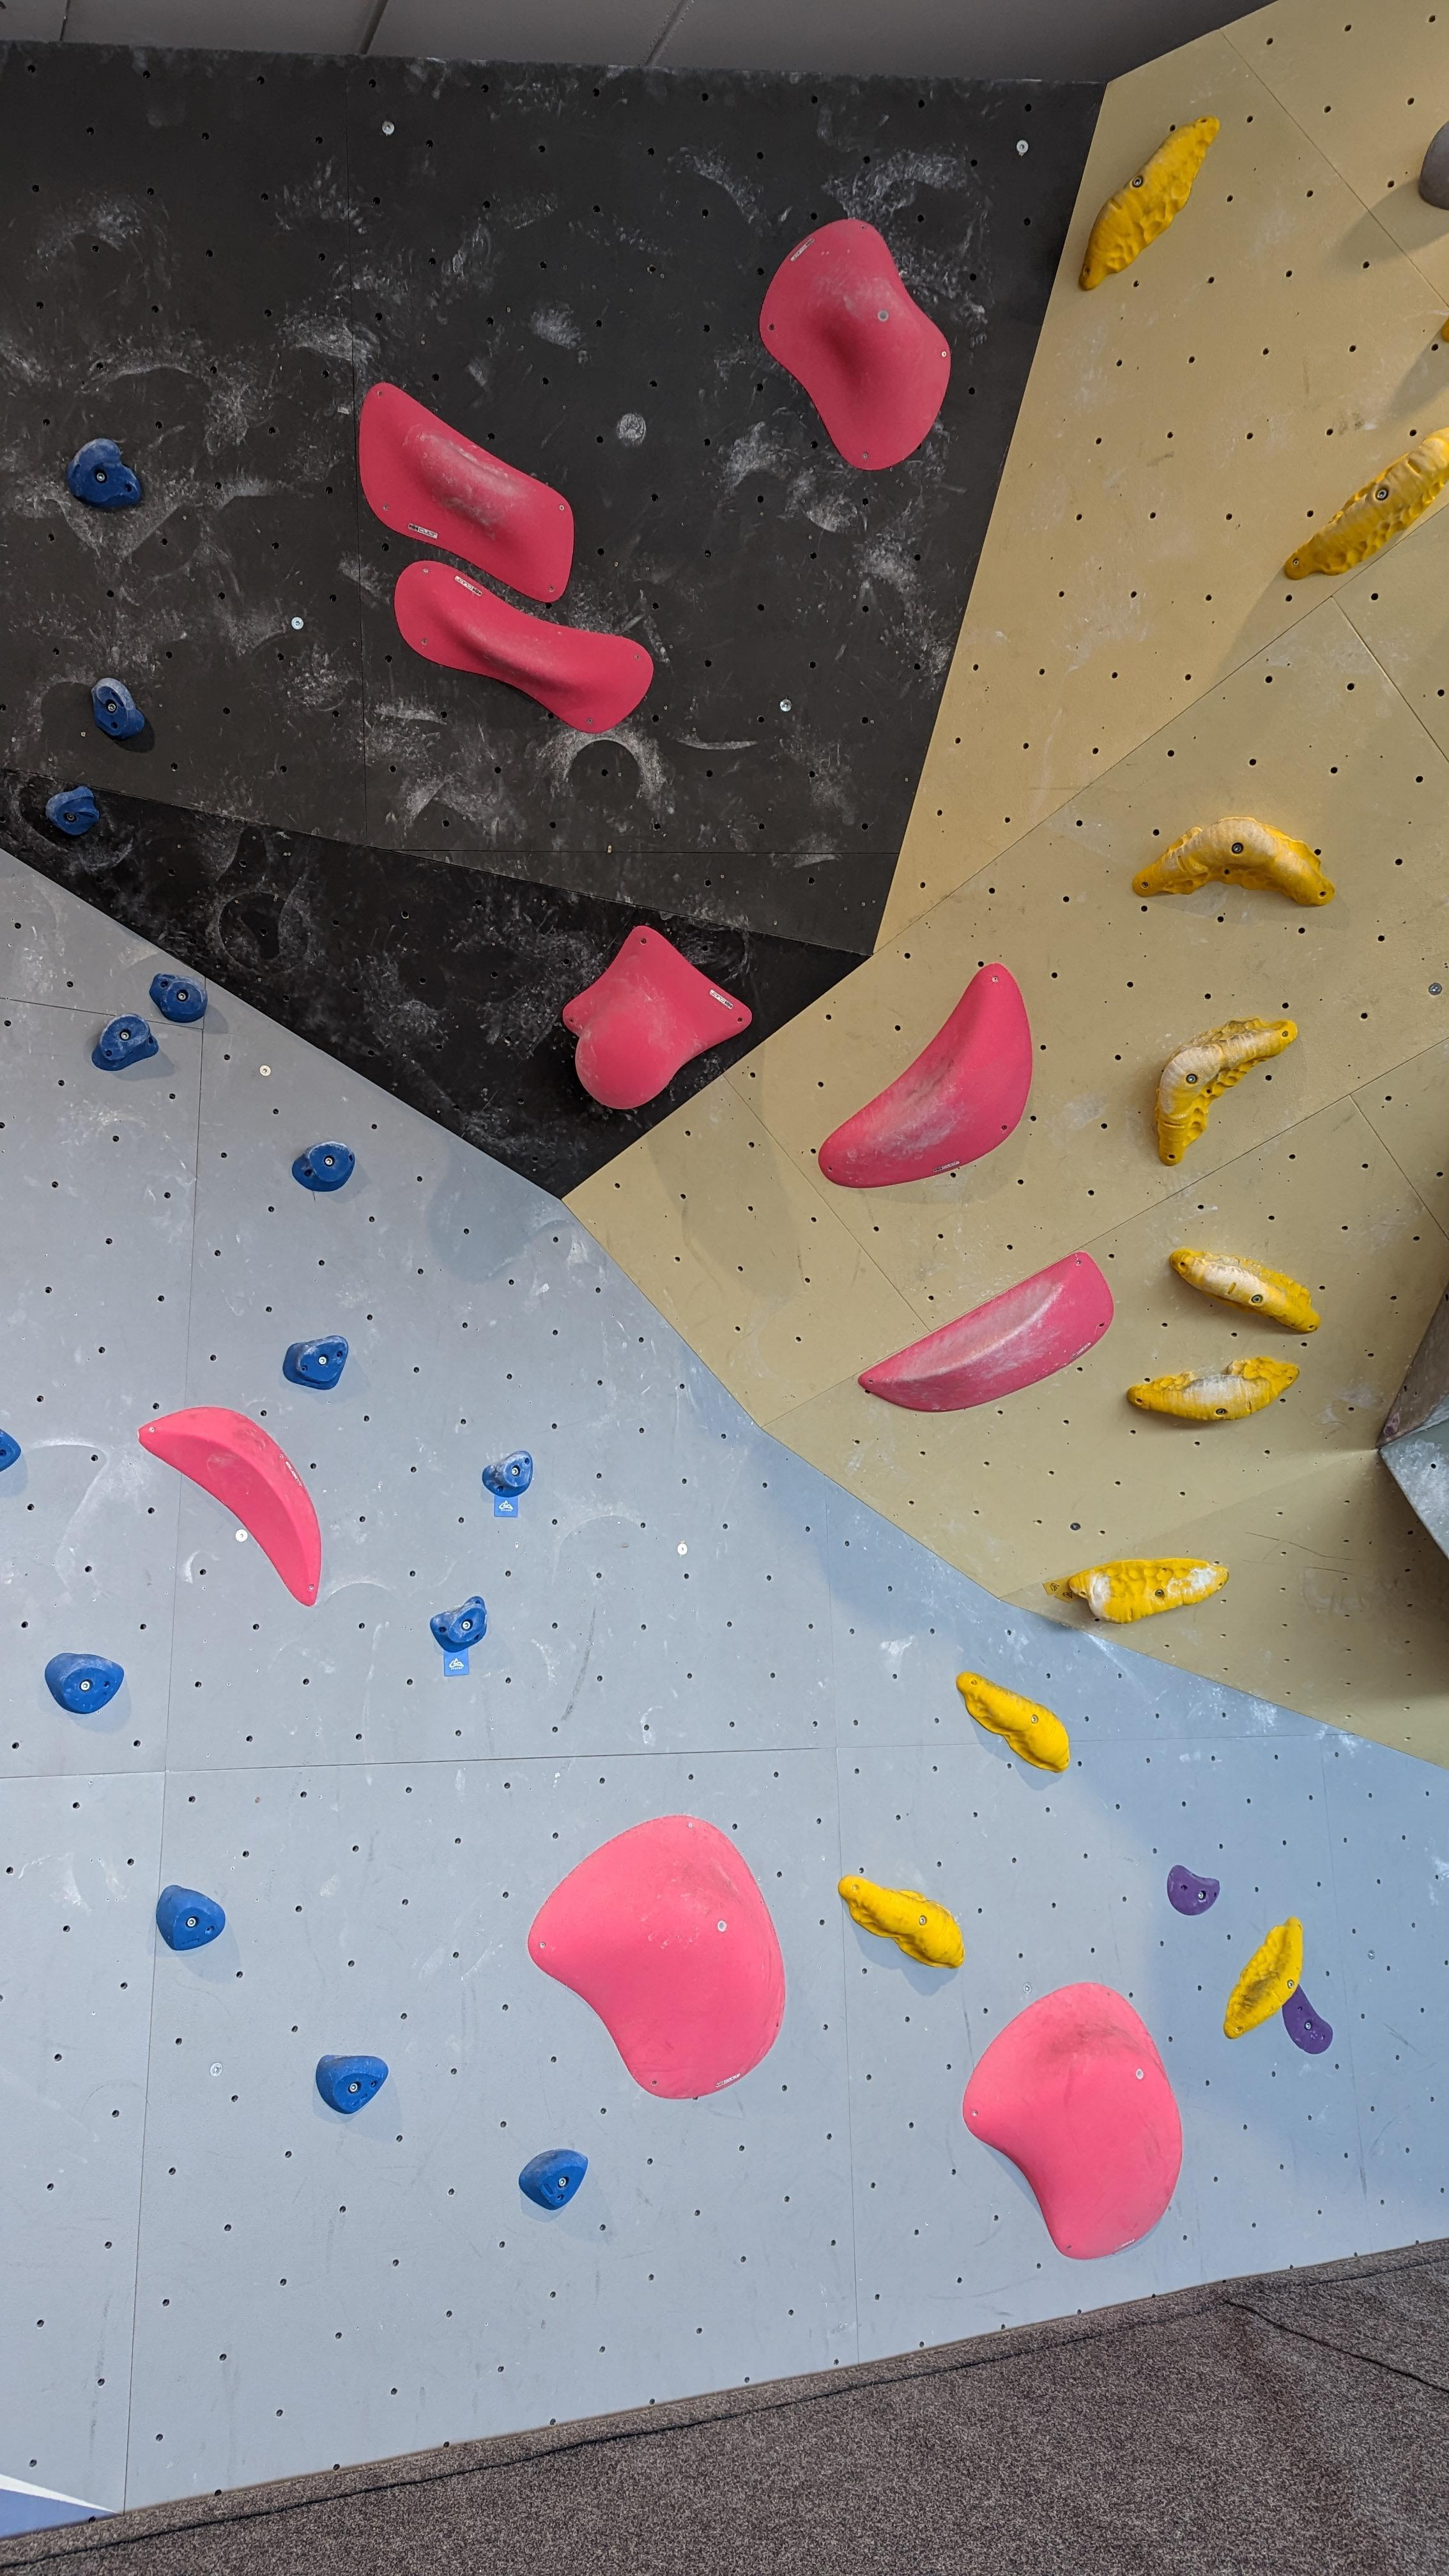hold: (527, 1815, 786, 2098), (962, 1983, 1182, 2259), (759, 218, 952, 471), (817, 962, 1031, 1187), (359, 382, 575, 602), (395, 561, 655, 734), (858, 1253, 1113, 1412), (136, 1407, 322, 1606), (563, 925, 752, 1109), (1284, 426, 1449, 580), (1079, 115, 1221, 290), (1154, 1016, 1297, 1166), (1132, 816, 1336, 906), (1169, 1247, 1322, 1334), (1375, 1276, 1449, 1449), (839, 1874, 966, 1969), (1127, 1355, 1300, 1422), (955, 1672, 1070, 1773), (1067, 1557, 1230, 1624), (1378, 1412, 1449, 1564), (1223, 1916, 1304, 2040), (65, 439, 142, 510), (44, 1652, 124, 1714), (156, 1884, 226, 1951), (315, 2056, 389, 2114), (518, 2148, 587, 2210), (92, 1012, 159, 1070), (283, 1336, 349, 1389), (1283, 1985, 1332, 2054), (90, 678, 145, 740), (292, 1139, 356, 1192), (430, 1596, 487, 1652), (150, 973, 207, 1023), (1419, 119, 1449, 211), (1168, 1865, 1221, 1916), (46, 786, 99, 837), (481, 1451, 533, 1497), (0, 1428, 21, 1472), (1384, 1412, 1399, 1435), (1442, 315, 1449, 343)
